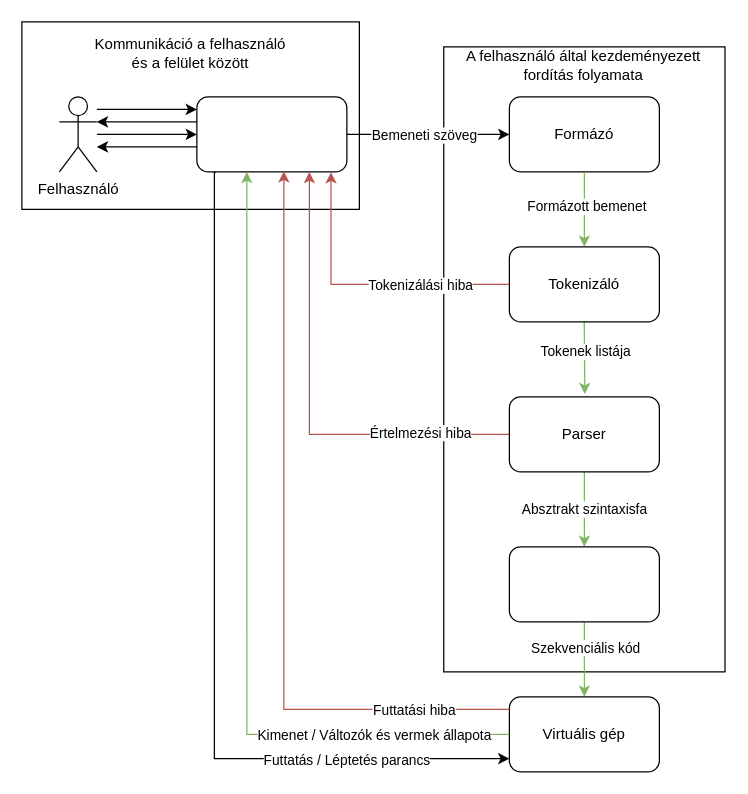
The diagram is 748 pixels wide and 794 high, and some of its shapes have lost their labels. Here are the shapes that lost their labels. From the top down, the centre of each, then its label:
the point at 271,134: Felhasználói felület
the point at 583,584: Fordító
